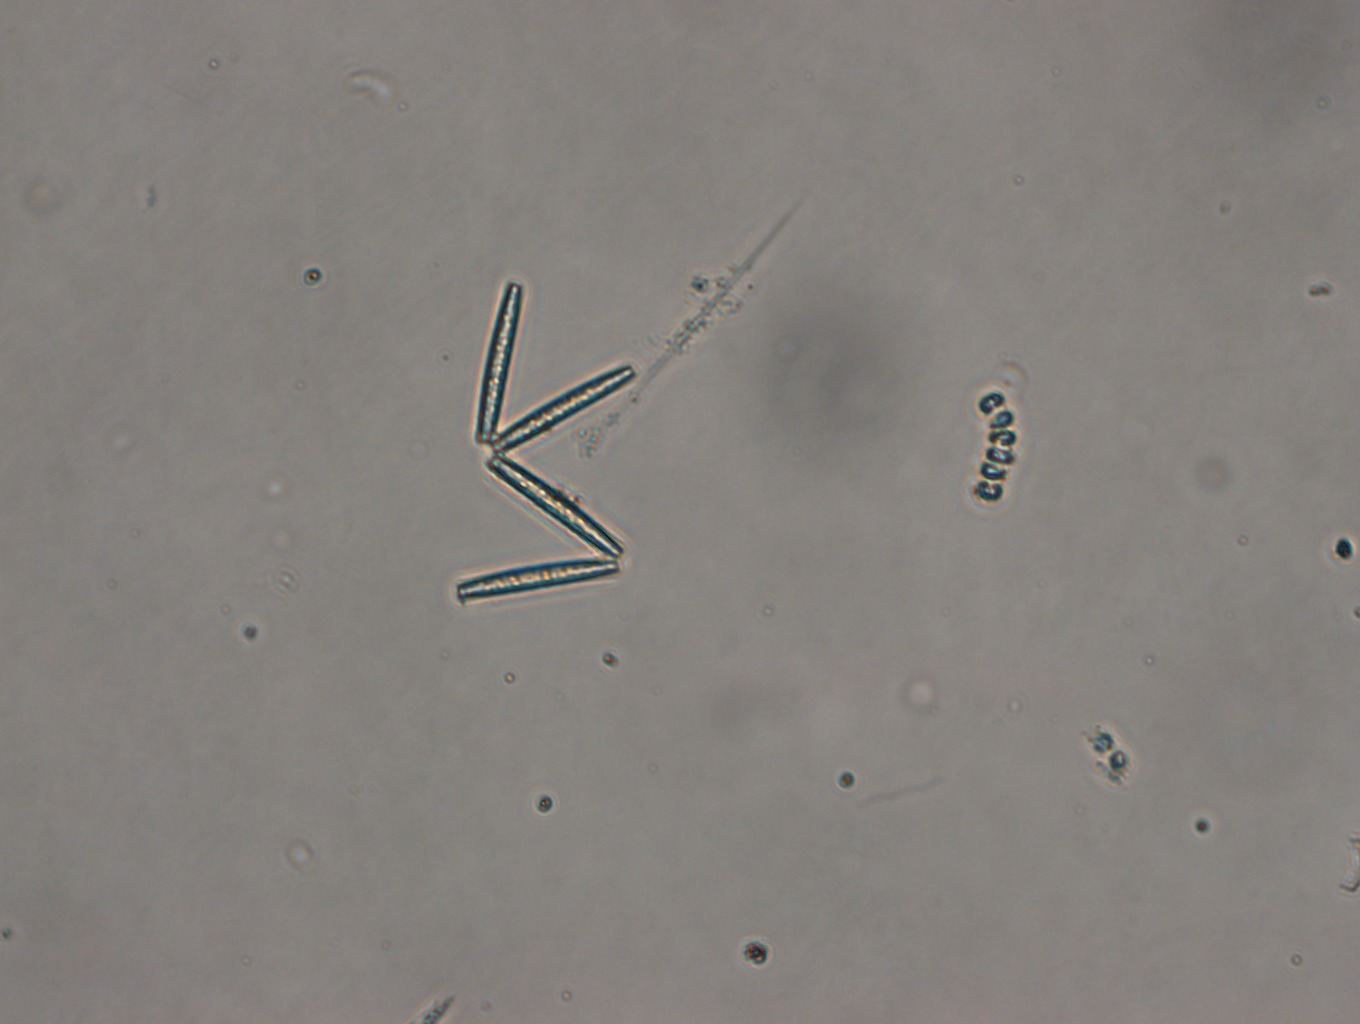skeletonema: (973, 388, 1019, 504)
thalassionema nitzschioides: (453, 282, 635, 608)
